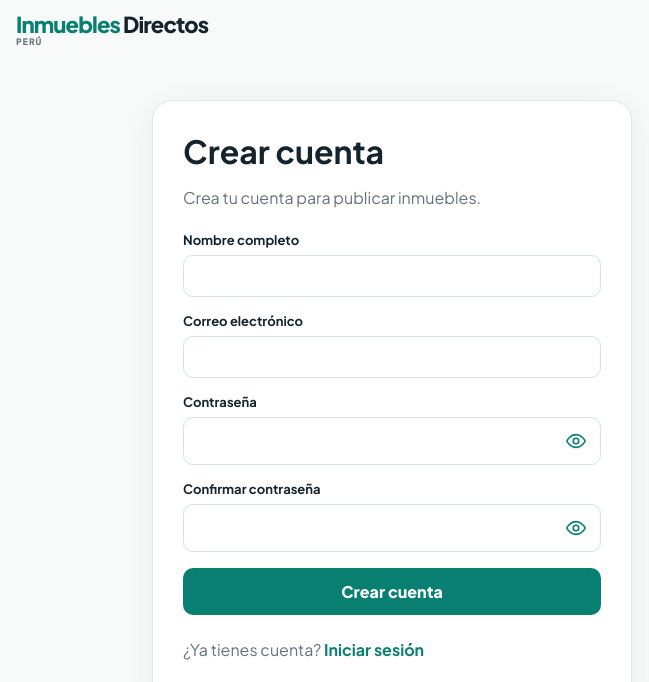
Test: Supabase Auth UX › creates an unprivileged signup request with a safe confirmation URL
The image size is (649, 682).
Type "Usuario Prueba" into the field labelled "Nombre completo" at (392,276), box [183,255,601,297]
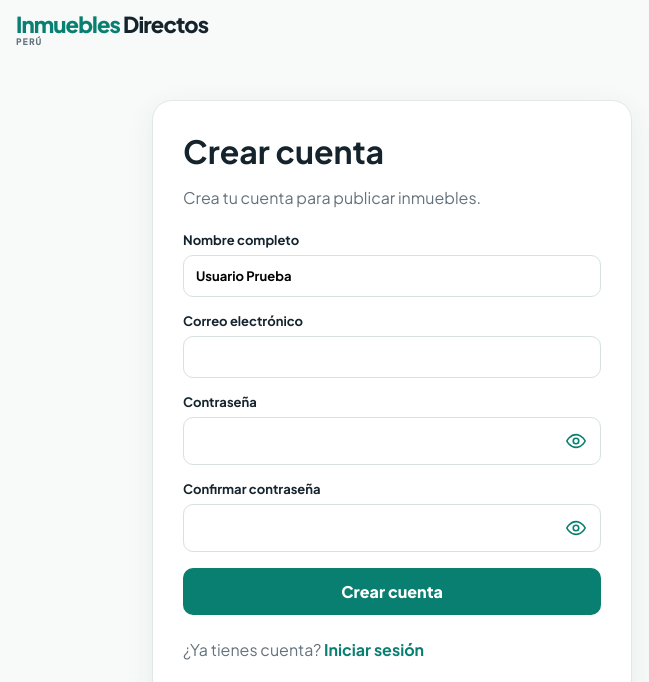
Type "u@example.test" into the field labelled "Correo electrónico" at (392,357), box [183,336,601,378]
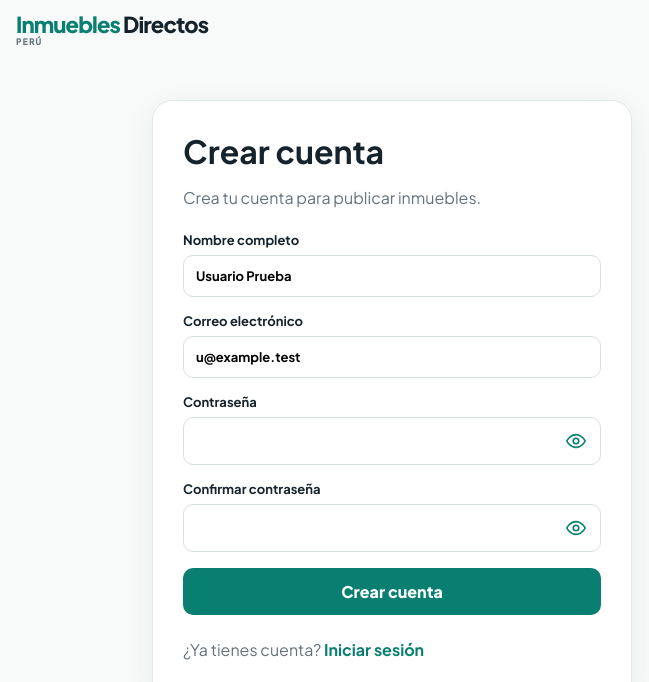
Type "12345678" into the password field labelled "Contraseña" at (392,441), box [183,417,601,465]
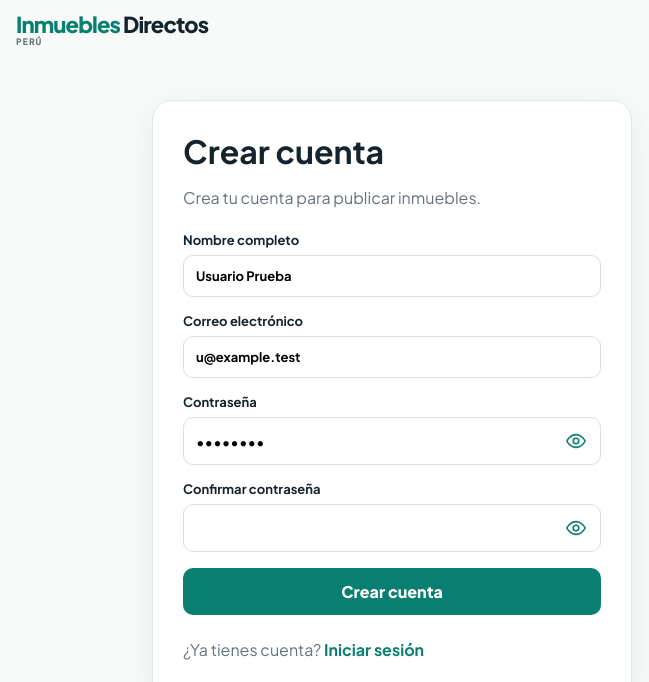
Type "12345678" into the password field labelled "Confirmar contraseña" at (392,528), box [183,504,601,552]
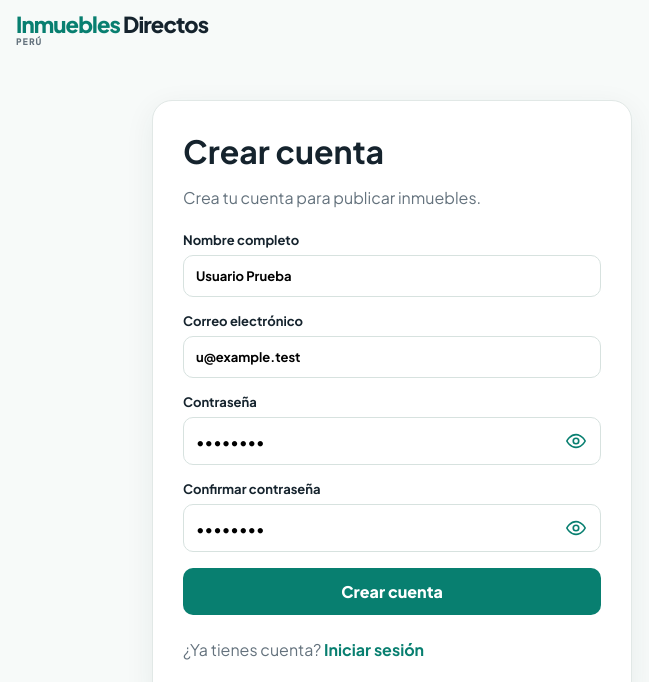
Submit the form labelled "Correo electrónico", box [183,232,601,615]
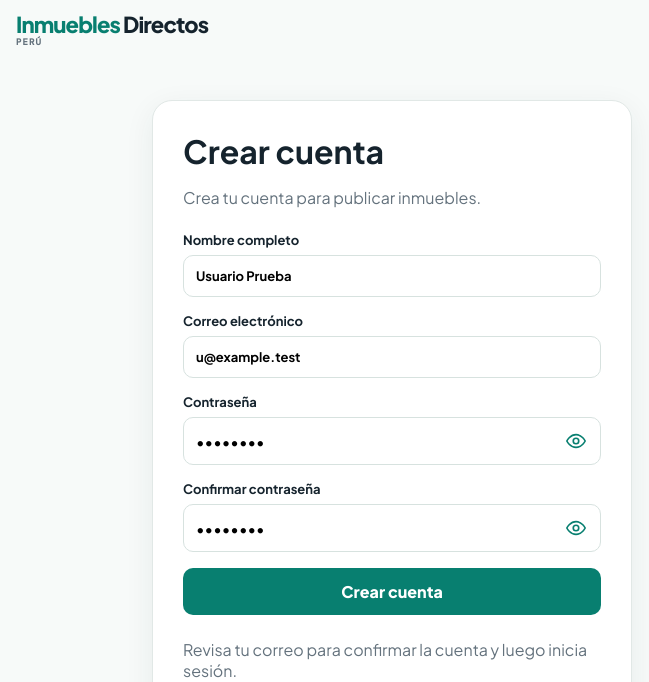
Now the message shows "Revisa tu correo", box [183,639,587,681]
